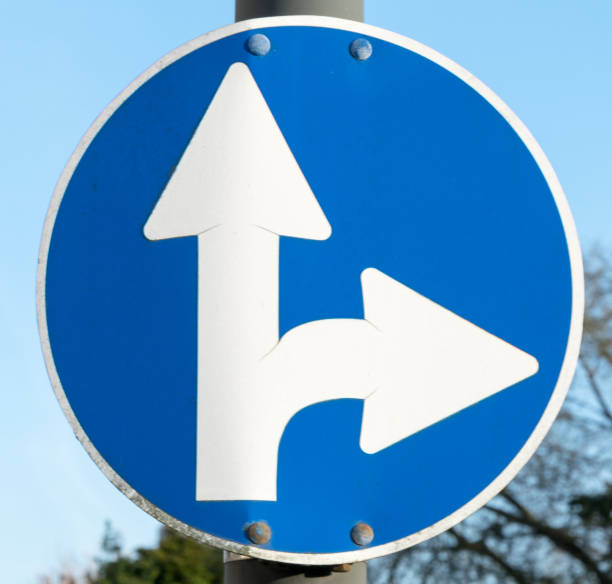ileri_veya_saga: (35, 18, 587, 572)
